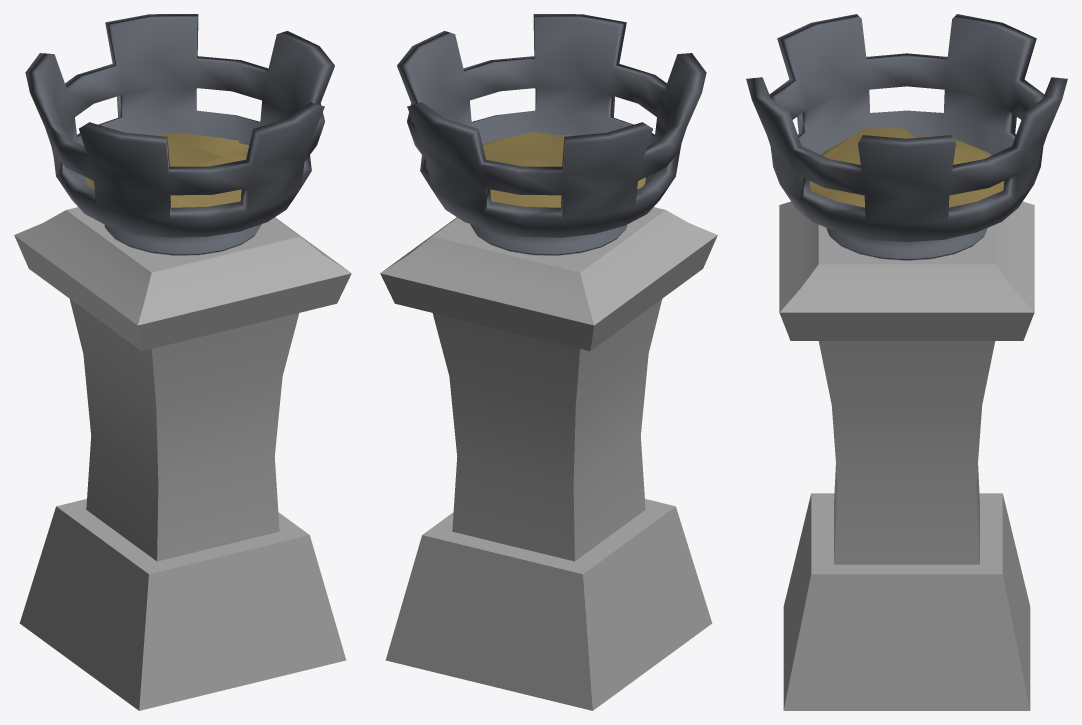
The model's file is brazier.fbx.
3 renders of one model, left to right at view 1: azimuth 30°, elevation 25°; view 2: azimuth 150°, elevation 25°; view 3: azimuth 270°, elevation 25°, orthographic. The views are drawn at different scales.
Visible parts, largest first — view 1: brazier; view 2: brazier; view 3: brazier.
Boxes of the visible parts, x1,y1,x2,y2 form: brazier: (14, 14, 351, 710); brazier: (380, 14, 717, 710); brazier: (746, 14, 1067, 710).
Bounding box in the file's own units: 67.82 × 138 × 69.07.
